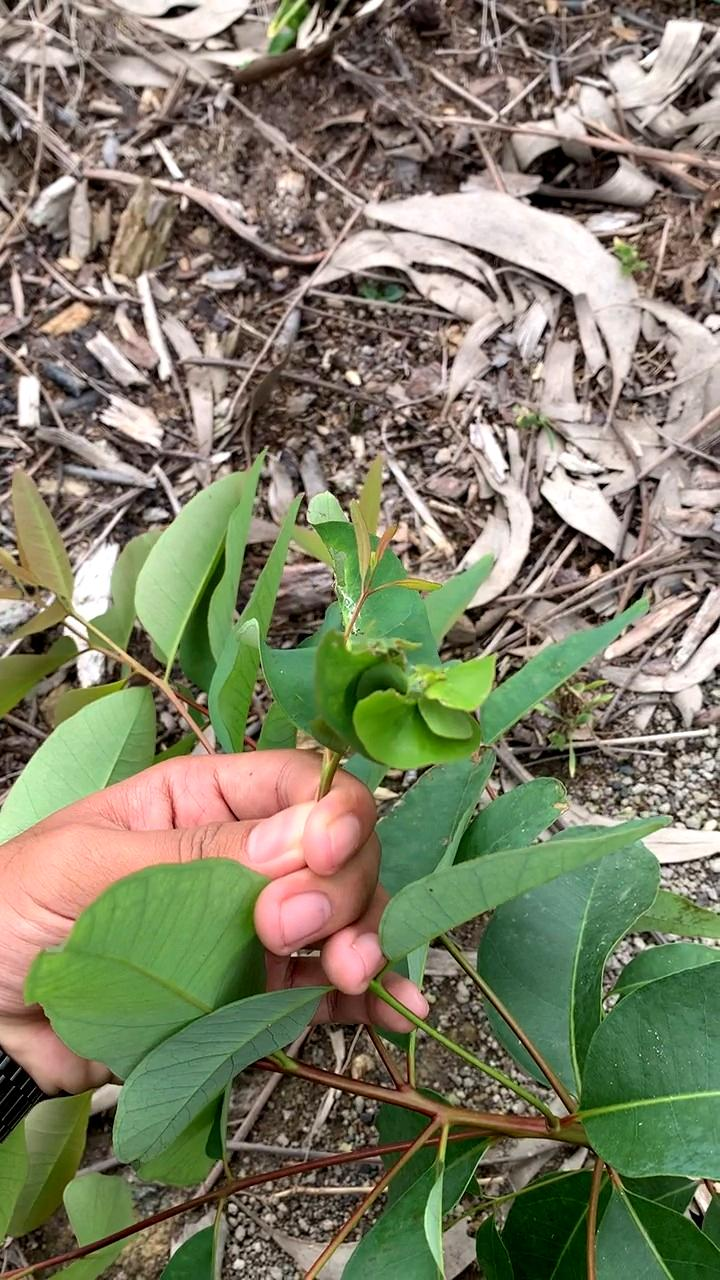Leaf Roller - Leaf: (287, 583, 505, 798)
